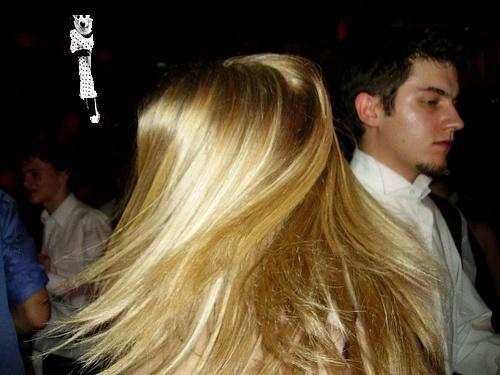tampered: (71, 16, 100, 123)
